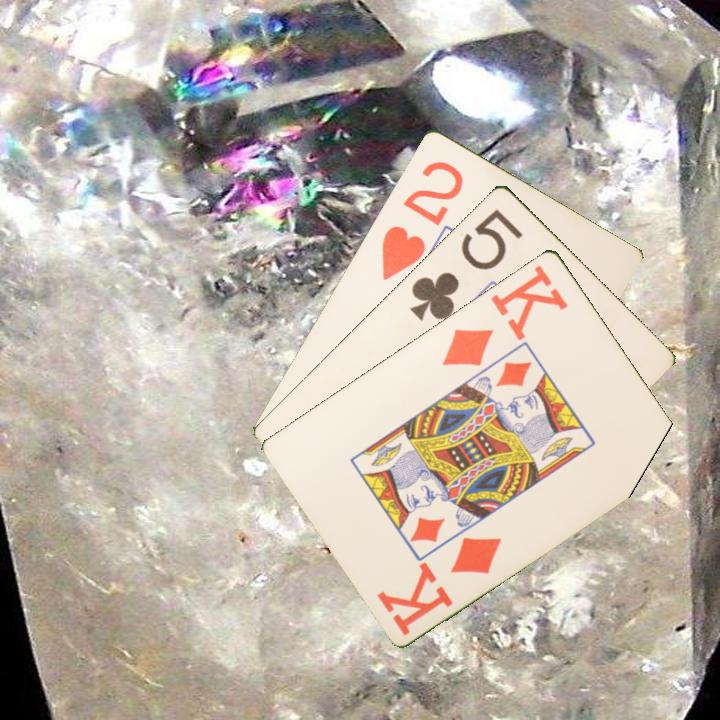2h: (377, 156, 467, 283)
5c: (406, 204, 526, 324)
Kd: (438, 261, 571, 369), (374, 532, 505, 639)
